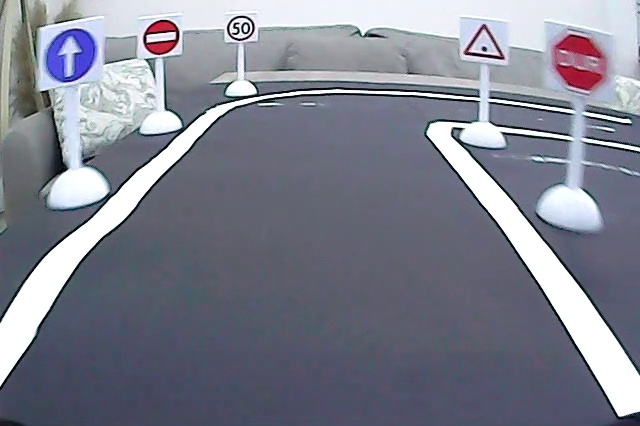do not enter: (140, 16, 182, 57)
green light: (462, 20, 507, 62)
speed limit 50: (225, 14, 257, 43)
stop sign: (548, 30, 610, 97)
